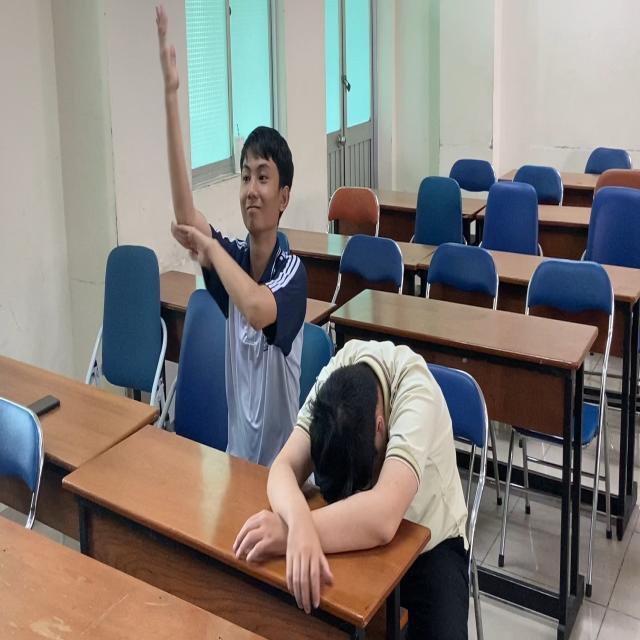raise_hand: (152, 1, 308, 466)
sleep: (285, 335, 474, 554)
